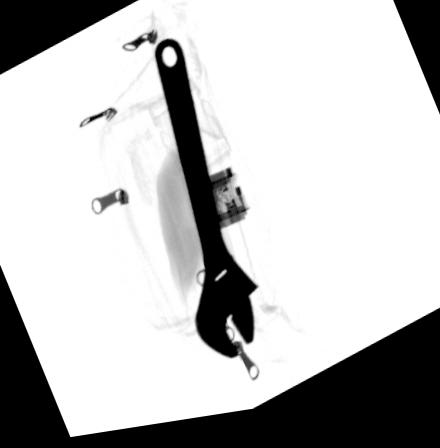Wrench: (152, 41, 261, 367)
